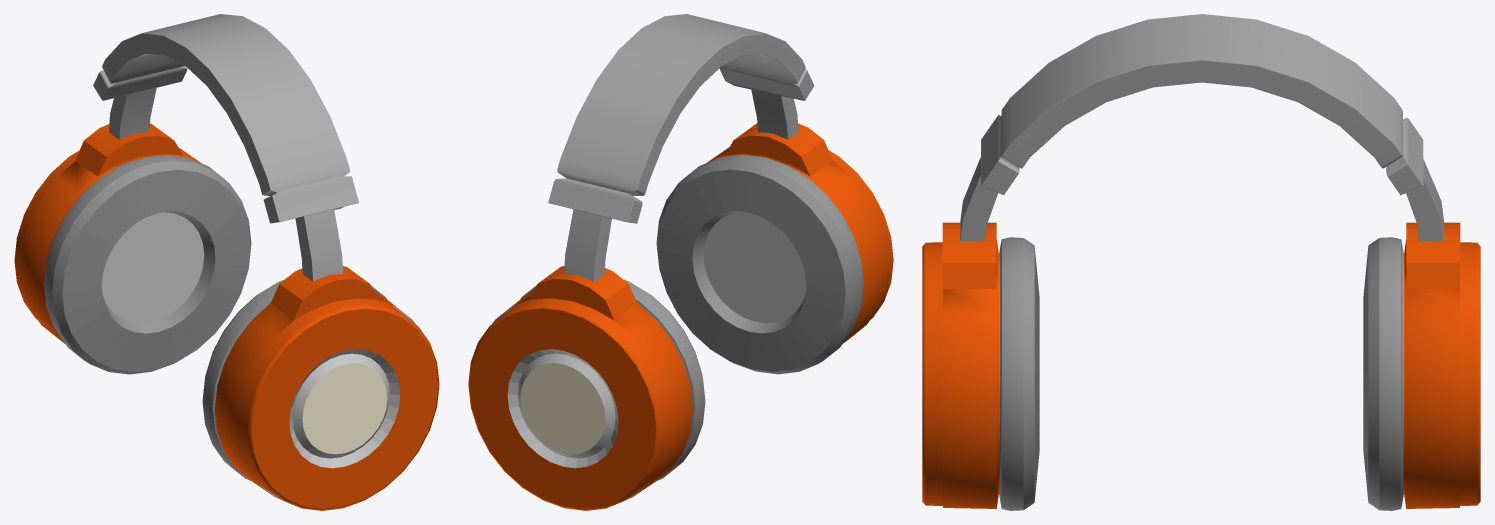
File: Headphones.fbx
The picture shows the model from 3 angles, left to right: view 1: azimuth 30°, elevation 25°; view 2: azimuth 150°, elevation 25°; view 3: azimuth 270°, elevation 25°; orthographic projection. The views are drawn at different scales.
Parts seen in each view (by area): view 1: pCylinder5, pCylinder4, pCylinder1; view 2: pCylinder4, pCylinder5, pCylinder1; view 3: pCylinder1, pCylinder4, pCylinder5.
Boxes of the visible parts, <box> form: pCylinder5: <box>14,123,251,374</box>; pCylinder4: <box>202,266,439,510</box>; pCylinder1: <box>93,14,358,281</box>; pCylinder4: <box>656,123,893,374</box>; pCylinder5: <box>468,266,705,510</box>; pCylinder1: <box>548,14,814,281</box>; pCylinder1: <box>960,14,1444,240</box>; pCylinder4: <box>922,222,1039,510</box>; pCylinder5: <box>1363,222,1480,510</box>.
Bounding box in the file's own units: 182 × 338 × 371.
